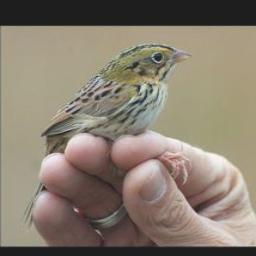Sparrow: (16, 43, 193, 234)
